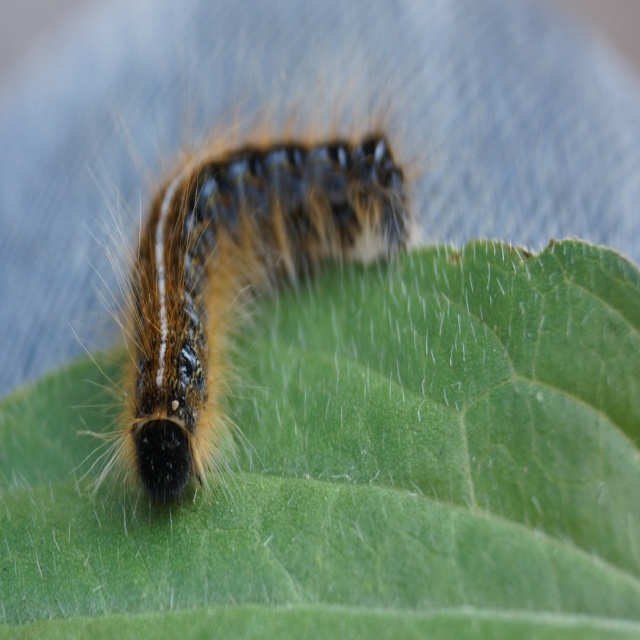Caterpillar: (63, 53, 445, 509)
